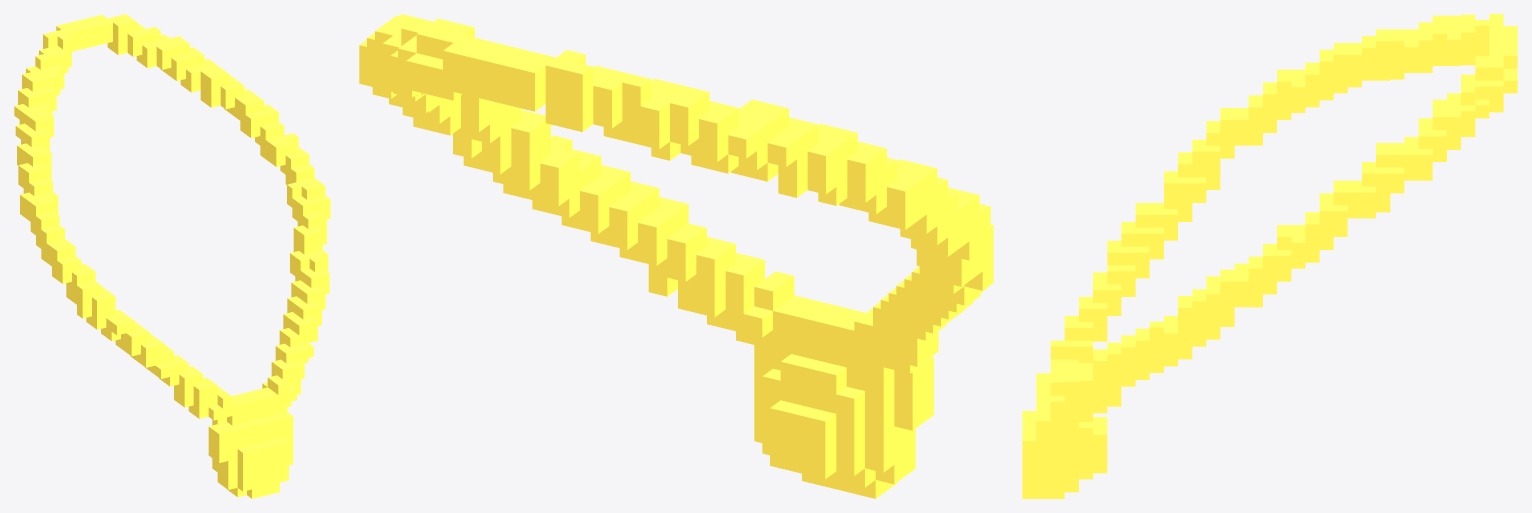
File: medallion.gltf
The picture shows the model from 3 angles, left to right: view 1: azimuth 30°, elevation 25°; view 2: azimuth 150°, elevation 25°; view 3: azimuth 270°, elevation 25°; orthographic projection. The views are drawn at different scales.
Parts seen in each view (by area): view 1: 项链; view 2: 项链; view 3: 项链.
Boxes of the visible parts, x1=… form: 项链: x1=14, y1=14, x2=330, y2=498; 项链: x1=359, y1=14, x2=993, y2=498; 项链: x1=1022, y1=14, x2=1517, y2=498.
Size of the model in its own units: 3.48 by 4.2 by 4.2.
